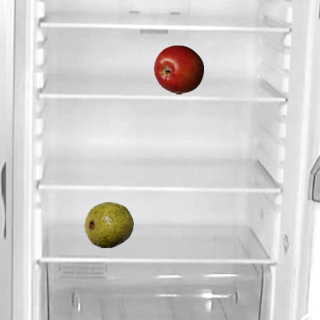Apple Braeburn: (153, 44, 203, 94)
Guava: (83, 199, 133, 249)
